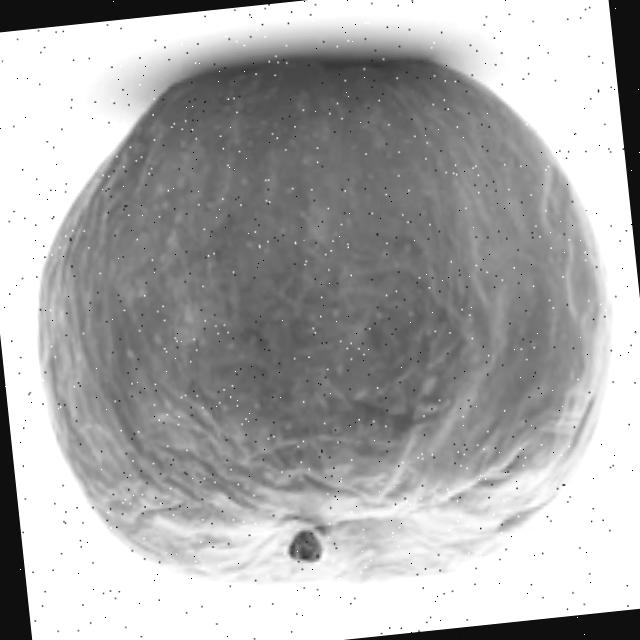Rotten: (0, 25, 639, 624)
